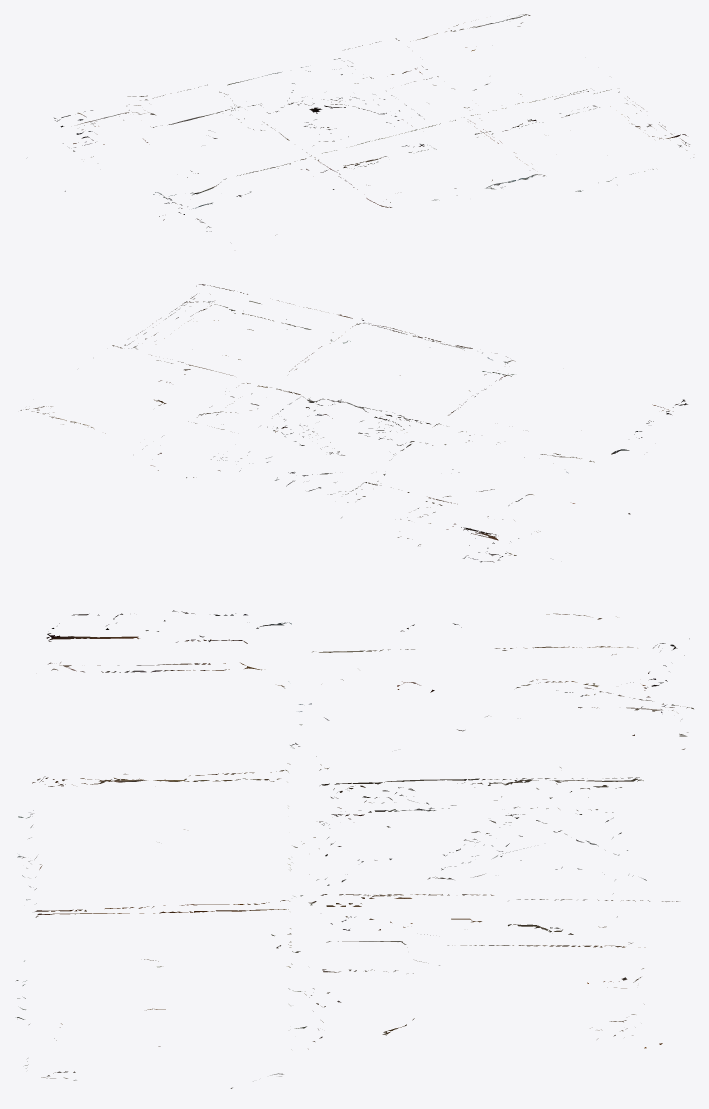
File: esc_baja_techo_00.glb
3 views of the same model, one above another, from view 1: azimuth 30°, elevation 25°; view 2: azimuth 150°, elevation 25°; view 3: azimuth 270°, elevation 25° (orthographic). The views are drawn at different scales.
Parts seen in each view (by area): view 1: techo_Inicial_habitaciones_0_GLTF_10; view 2: techo_Inicial_habitaciones_0_GLTF_10; view 3: techo_Inicial_habitaciones_0_GLTF_9, techo_Inicial_habitaciones_0_GLTF_10, techo_Inicial_habitaciones_0_GLTF_2, techo_Inicial_habitaciones_0_GLTF_1.
Boxes of the visible parts, left/top/right/bottom form: techo_Inicial_habitaciones_0_GLTF_10: left=55, top=20, right=678, bottom=219; techo_Inicial_habitaciones_0_GLTF_10: left=51, top=305, right=574, bottom=562; techo_Inicial_habitaciones_0_GLTF_9: left=35, top=610, right=688, bottom=1081; techo_Inicial_habitaciones_0_GLTF_10: left=17, top=614, right=693, bottom=1034; techo_Inicial_habitaciones_0_GLTF_2: left=31, top=643, right=677, bottom=1040; techo_Inicial_habitaciones_0_GLTF_1: left=16, top=615, right=669, bottom=981.
Size of the model in its own units: 17.8 by 1.46 by 11.24.
Materials: 11 (11 with a texture image).
